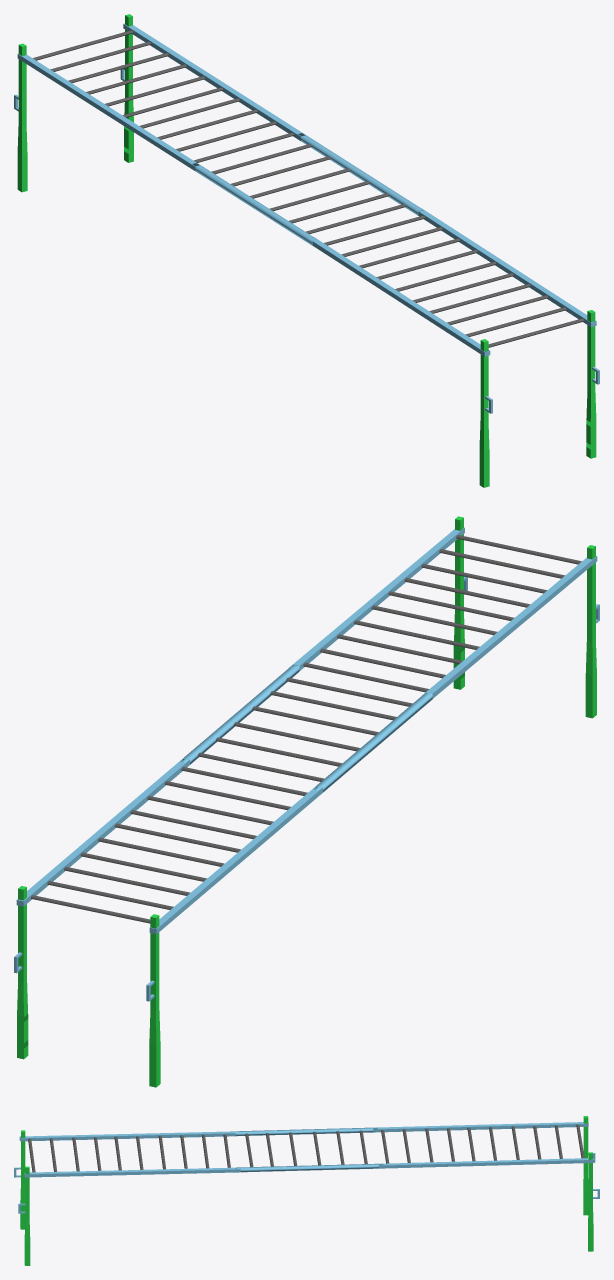
Rendered from M-MonkeyBar.fbx.
The picture shows the model from 3 angles, top to bottom: view 1: azimuth 30°, elevation 25°; view 2: azimuth 150°, elevation 25°; view 3: azimuth 270°, elevation 25°; orthographic projection. The views are drawn at different scales.
Parts seen in each view (by area): view 1: Monkey Bars.001; view 2: Monkey Bars.001; view 3: Monkey Bars.001.
Part boxes in pixels (box(x1,y1,x2,y2)): Monkey Bars.001: box(14, 14, 599, 487); Monkey Bars.001: box(14, 516, 599, 1087); Monkey Bars.001: box(14, 1116, 599, 1265).
Size of the model in its own units: 921 by 797 by 4335.
